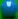blue: (0, 0, 18, 19)
